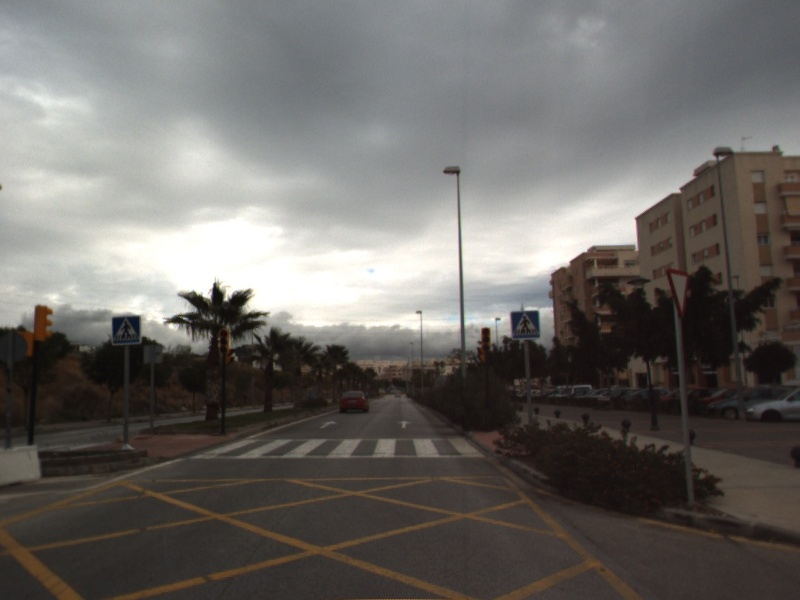STRAIGHT: (318, 419, 338, 430), (396, 418, 413, 430)
